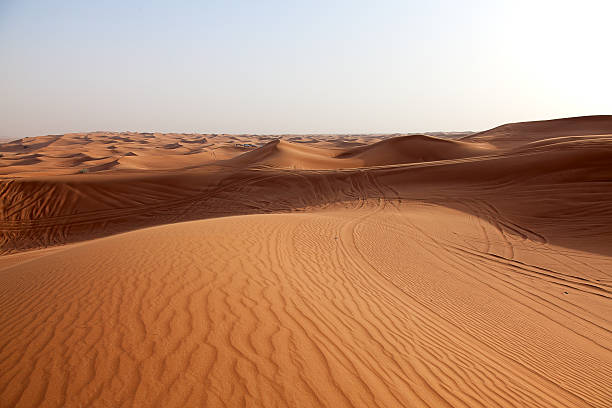vehicle_track: (338, 172, 593, 407), (274, 214, 440, 407), (0, 181, 96, 259), (445, 198, 545, 266)
